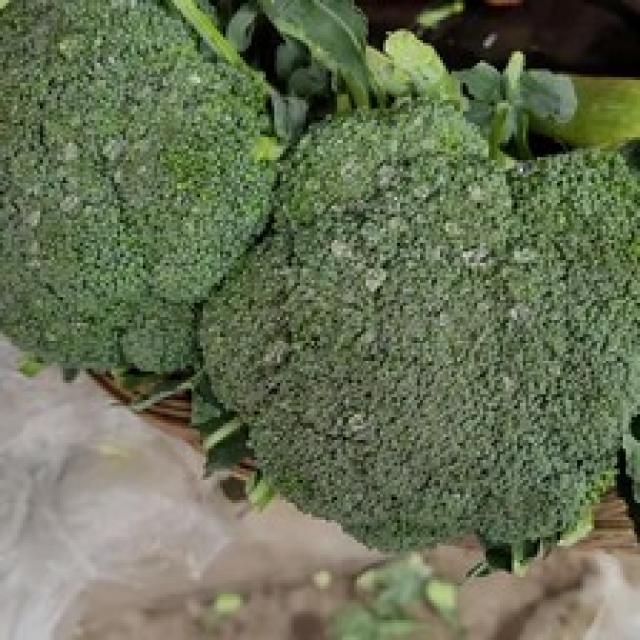Broccoli: (201, 101, 640, 548), (200, 102, 640, 547), (0, 2, 275, 371), (0, 2, 275, 371)
